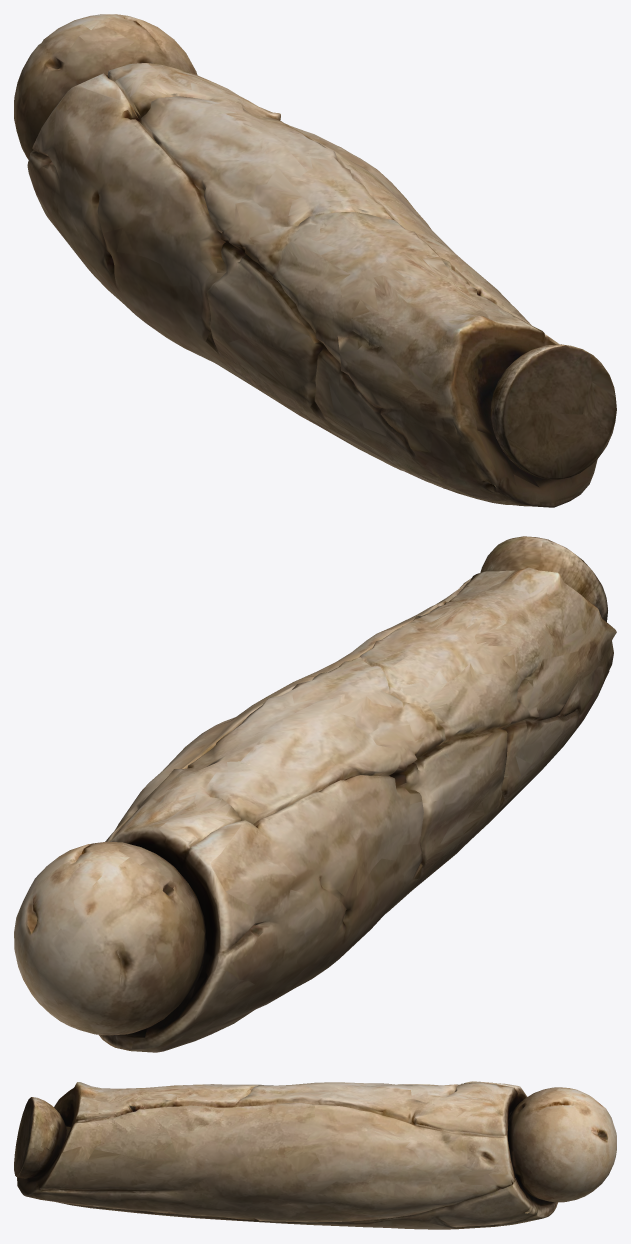
The model's file is upper_arm.fbx.
The picture shows the model from 3 angles, top to bottom: view 1: azimuth 30°, elevation 25°; view 2: azimuth 150°, elevation 25°; view 3: azimuth 270°, elevation 25°; orthographic projection. The views are drawn at different scales.
Parts seen in each view (by area): view 1: Part; view 2: Part; view 3: Part.
Part boxes in pixels (x1,y1,x2,y2): Part: [14, 14, 616, 507]; Part: [14, 536, 616, 1052]; Part: [14, 1081, 616, 1229].
Size of the model in its own units: 0.1053 by 0.0999 by 0.4.
